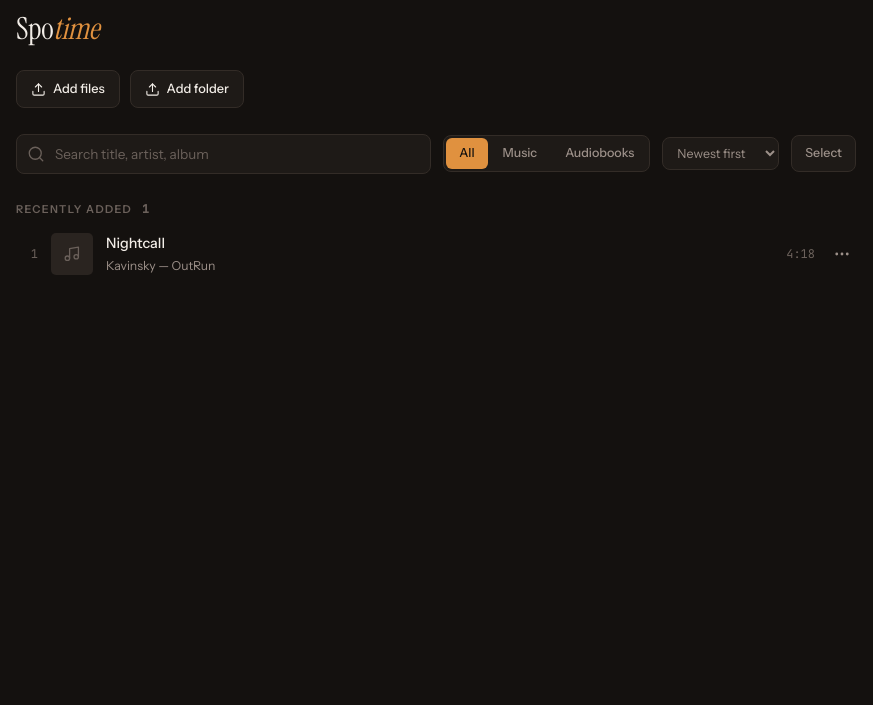
it: transient messages › reports a failed tag save without a blocking alert
The width and height of the screenshot is (873, 705).
expect the text "Nightcall" is shown: met, box [106,234,165,252]
Click the button named "More for Nightcall".
click(842, 254)  # box [828,240,856,268]
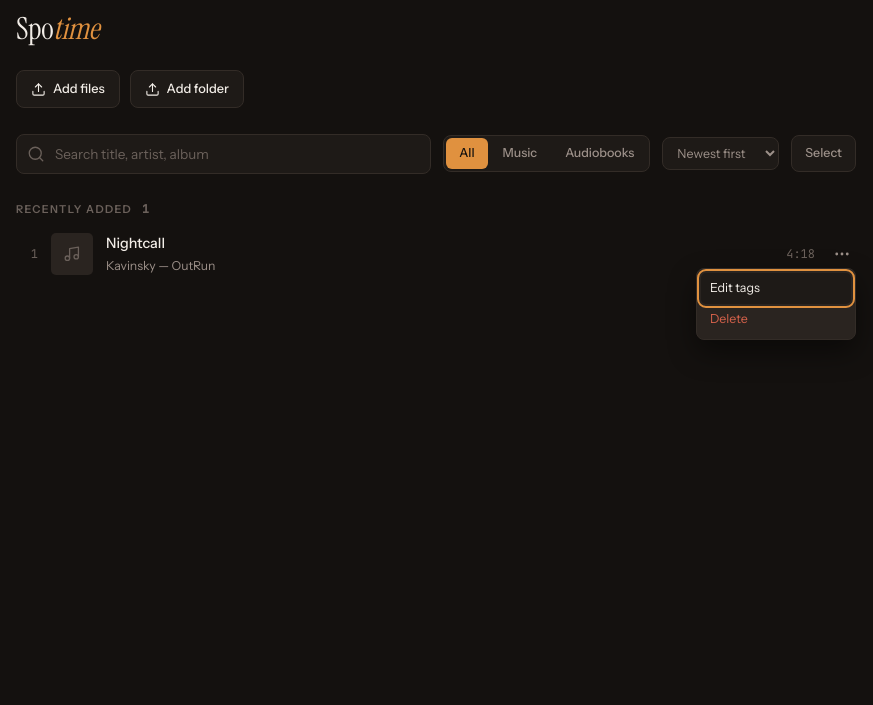
Click the menu item "Edit tags".
click(776, 289)  # box [701,273,851,304]
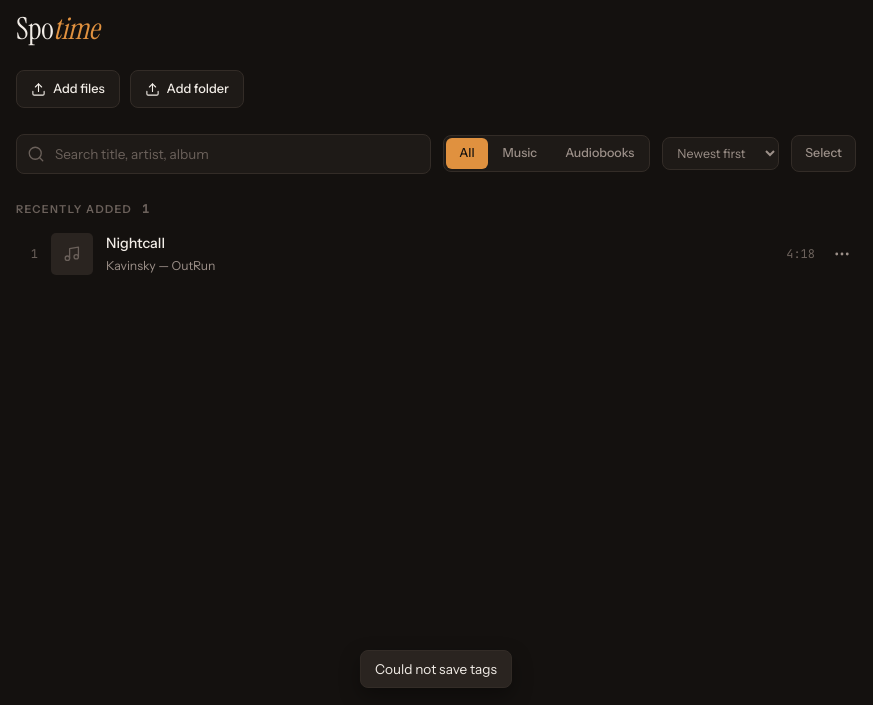
expect the text "Could not save tags" is shown: met, box [360,650,512,688]
